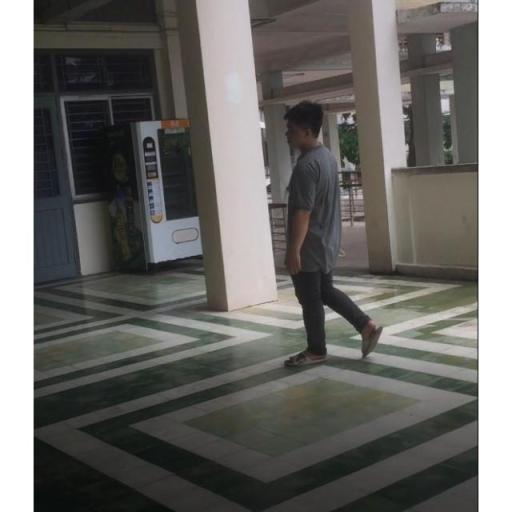Running: (272, 92, 386, 375)
